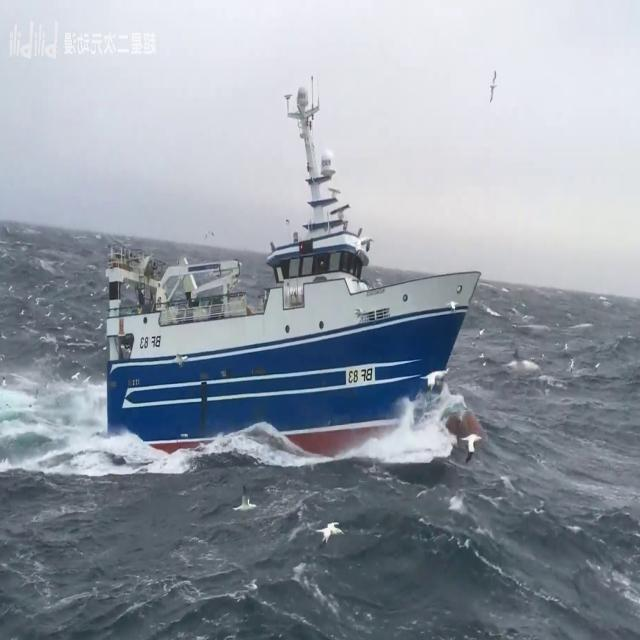houseboat: (95, 81, 492, 488)
